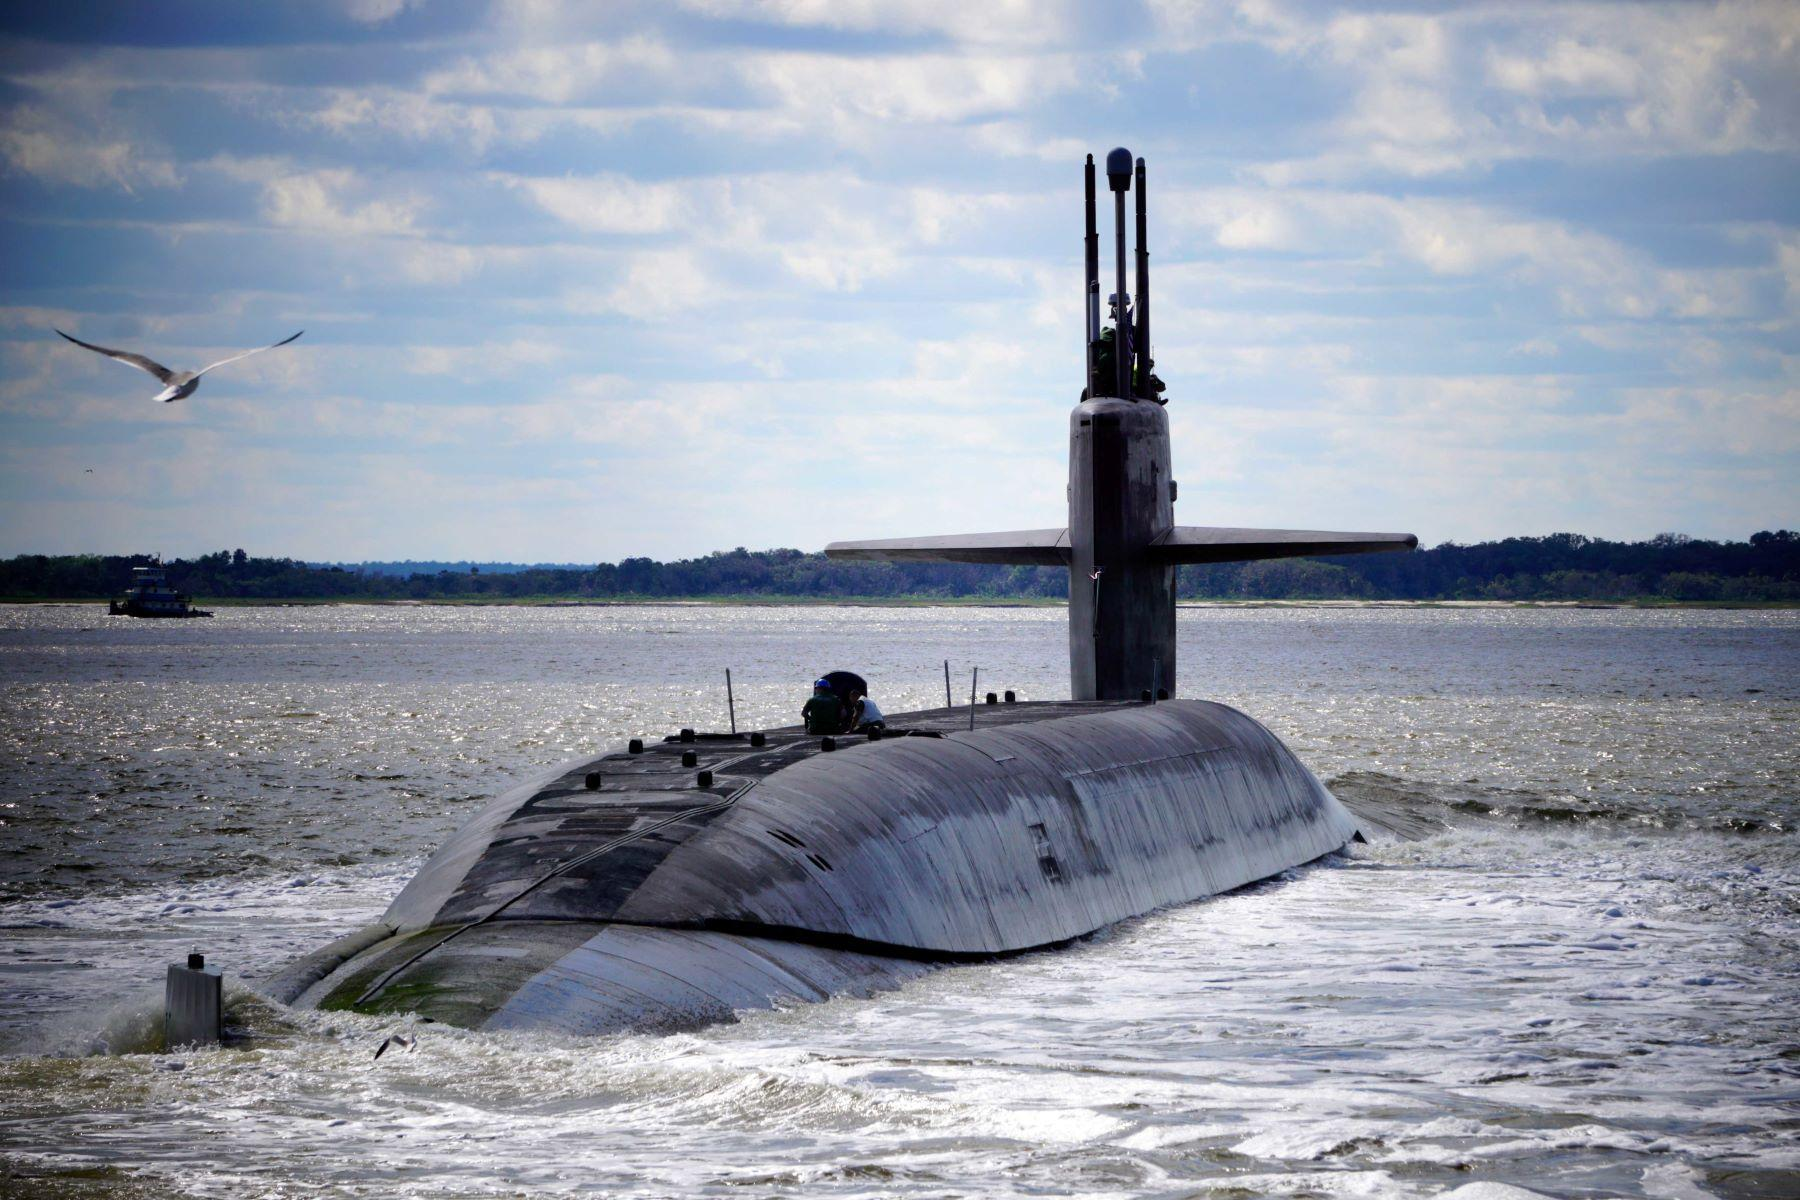Submarine: (27, 117, 1553, 1187)
